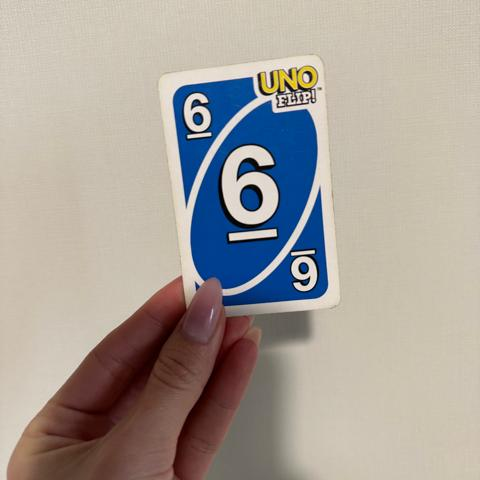lblue-6: (168, 79, 223, 149)
